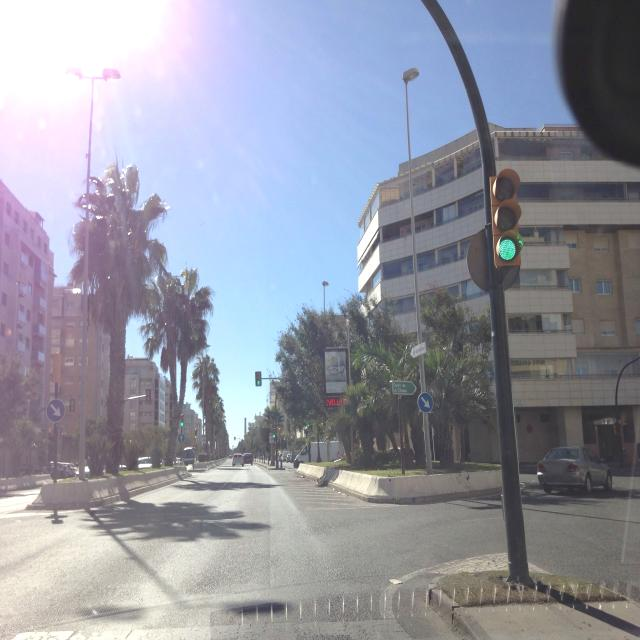car: (536, 445, 613, 493), (292, 440, 346, 470), (137, 456, 153, 470), (232, 452, 244, 467), (243, 453, 253, 465)
